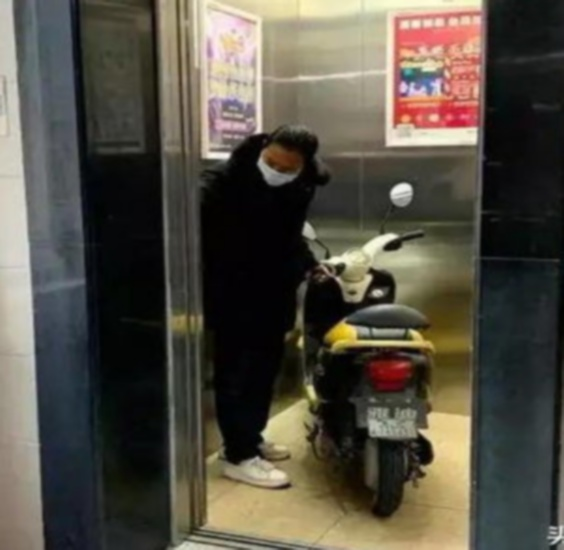ebike: (297, 184, 428, 523)
person: (199, 122, 317, 488)
